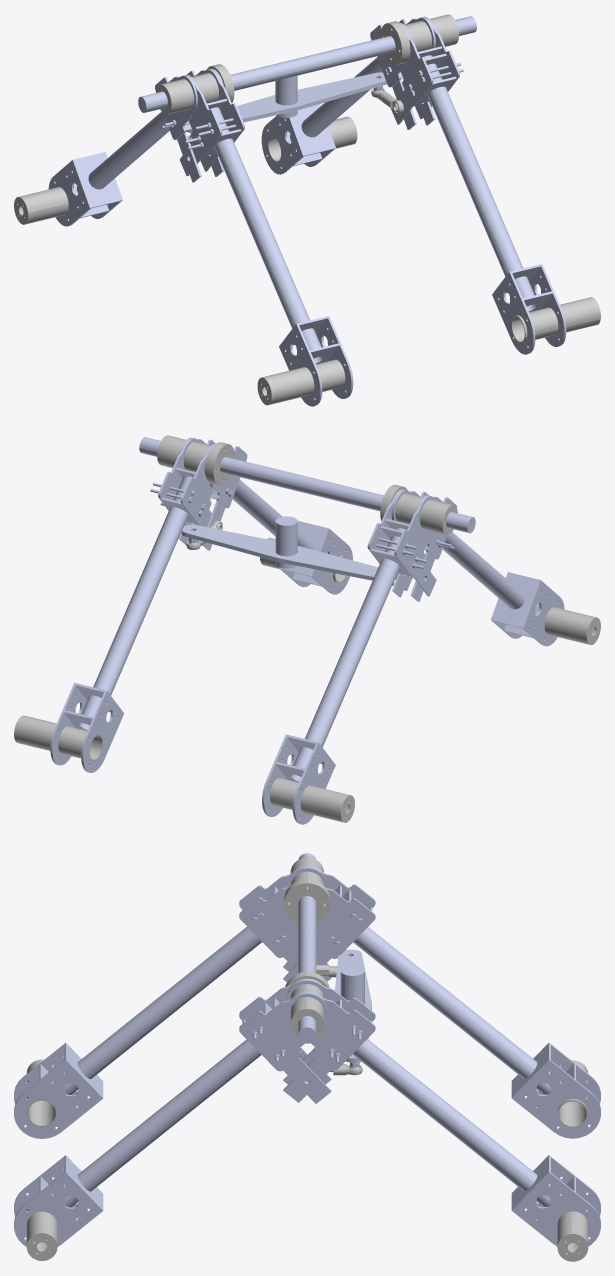
File: avni_drive_system.glb
The picture shows the model from 3 angles, top to bottom: view 1: azimuth 30°, elevation 25°; view 2: azimuth 150°, elevation 25°; view 3: azimuth 270°, elevation 25°; orthographic projection. The views are drawn at different scales.
Visible parts, largest first — view 1: empty_7, empty_61, empty_3, empty_110, empty_84, empty_11, empty_36, empty_82, empty_78, empty_27, empty_31, empty_57 (+17 smaller); view 2: empty_57, empty_11, empty_3, empty_110, empty_86, empty_7, empty_34, empty_78, empty_31, empty_27, empty_9, empty_61 (+15 smaller); view 3: empty_7, empty_11, empty_57, empty_61, empty_28, empty_32, empty_77, empty_81, empty_59, empty_54, empty_10, empty_5 (+21 smaller).
Part boxes in pixels (x1,y1,x2,y2): empty_7: (210,107,325,363); empty_61: (423,55,538,311); empty_3: (138,16,476,112); empty_110: (190,72,386,130); empty_84: (511,297,598,343); empty_11: (77,111,169,193); empty_36: (263,359,345,404); empty_82: (492,271,535,354); empty_78: (261,115,304,174); empty_27: (279,323,322,406); empty_31: (48,159,91,226); empty_57: (290,57,382,140); empty_57: (77,476,192,730); empty_11: (289,527,404,781); empty_3: (139,437,475,533); empty_110: (181,524,378,578); empty_86: (16,716,103,761); empty_7: (442,532,536,613); empty_34: (270,778,348,821); empty_78: (81,690,123,772); empty_31: (292,742,335,824); empty_27: (521,579,564,646); empty_9: (394,496,435,578); empty_61: (232,479,313,549); empty_7: (53,926,261,1094); empty_11: (353,927,561,1094); empty_57: (352,1039,562,1207); empty_61: (53,1039,261,1207); empty_28: (14,1059,103,1138); empty_32: (511,1059,600,1138); empty_77: (511,1171,600,1246); empty_81: (14,1171,103,1246); empty_59: (239,992,327,1071); empty_54: (291,991,375,1070); empty_10: (316,888,375,958); empty_5: (239,886,298,957).
Bounding box in the file's own units: 0.802 × 0.5547 × 1.14.
